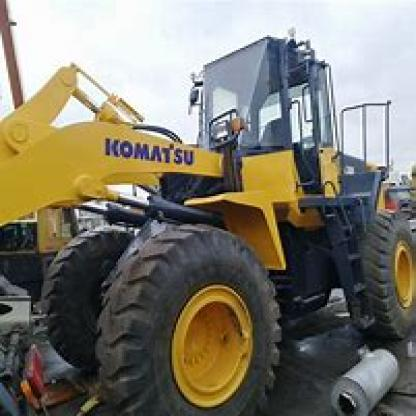bull_dozer/loader/grader: (4, 22, 414, 414)
